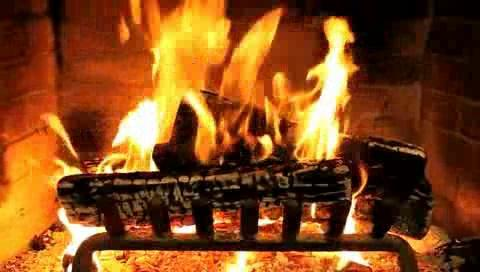fire: (121, 3, 353, 162)
